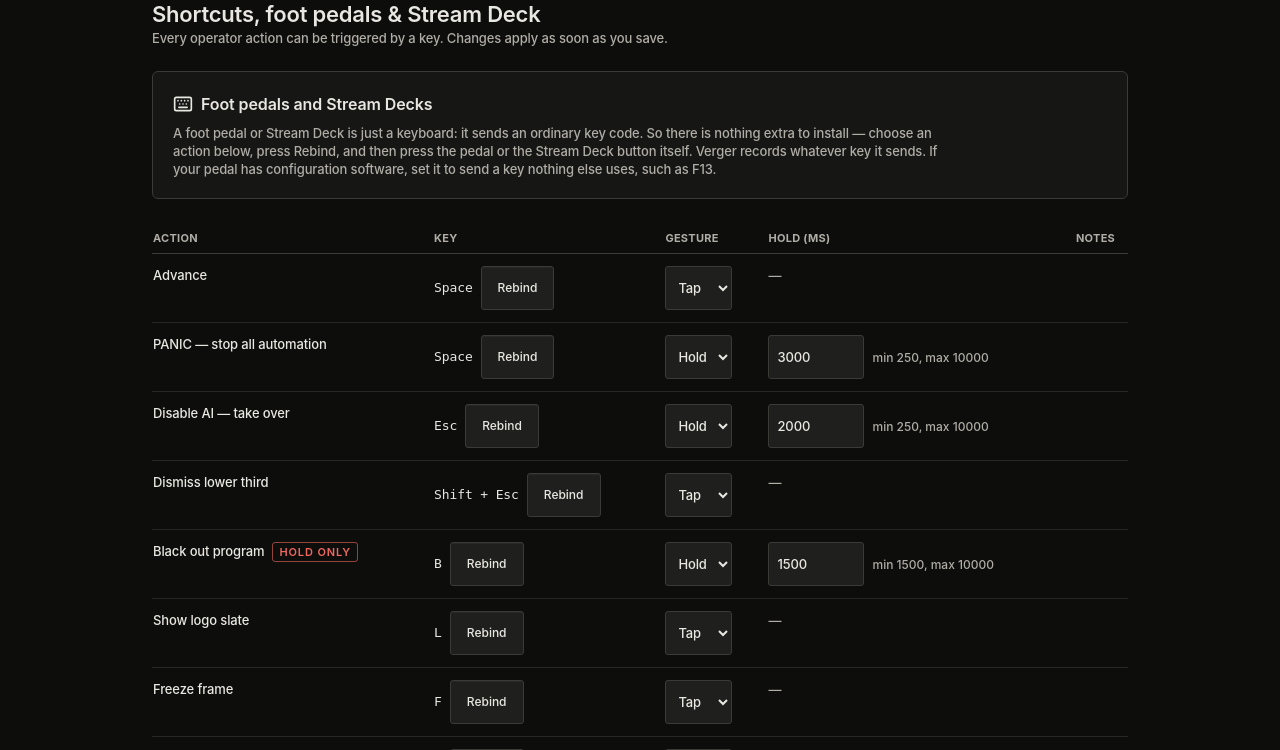
ShortcutSettings › restores the defaults, but only after a deliberate hold
Click the button with aria-label "rebind advance".
click(518, 288)  # box [481,266,554,310]
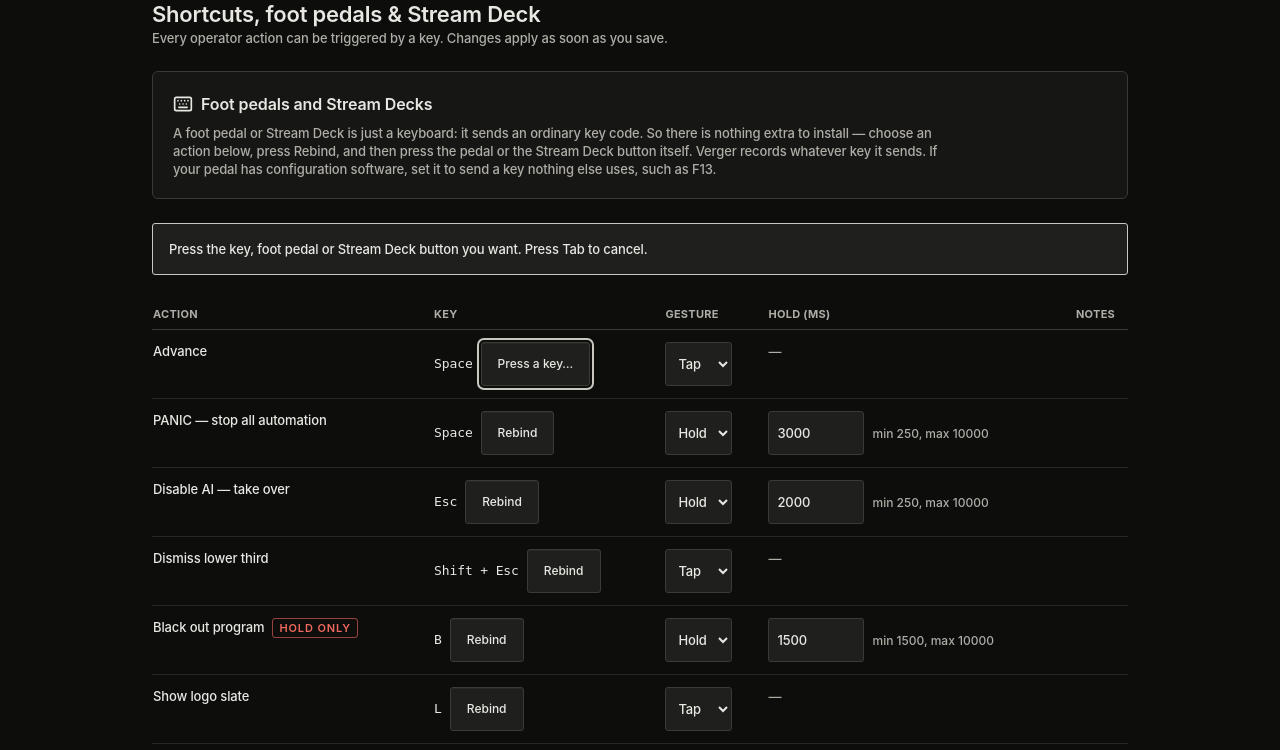
Press F13
(page scrolled)
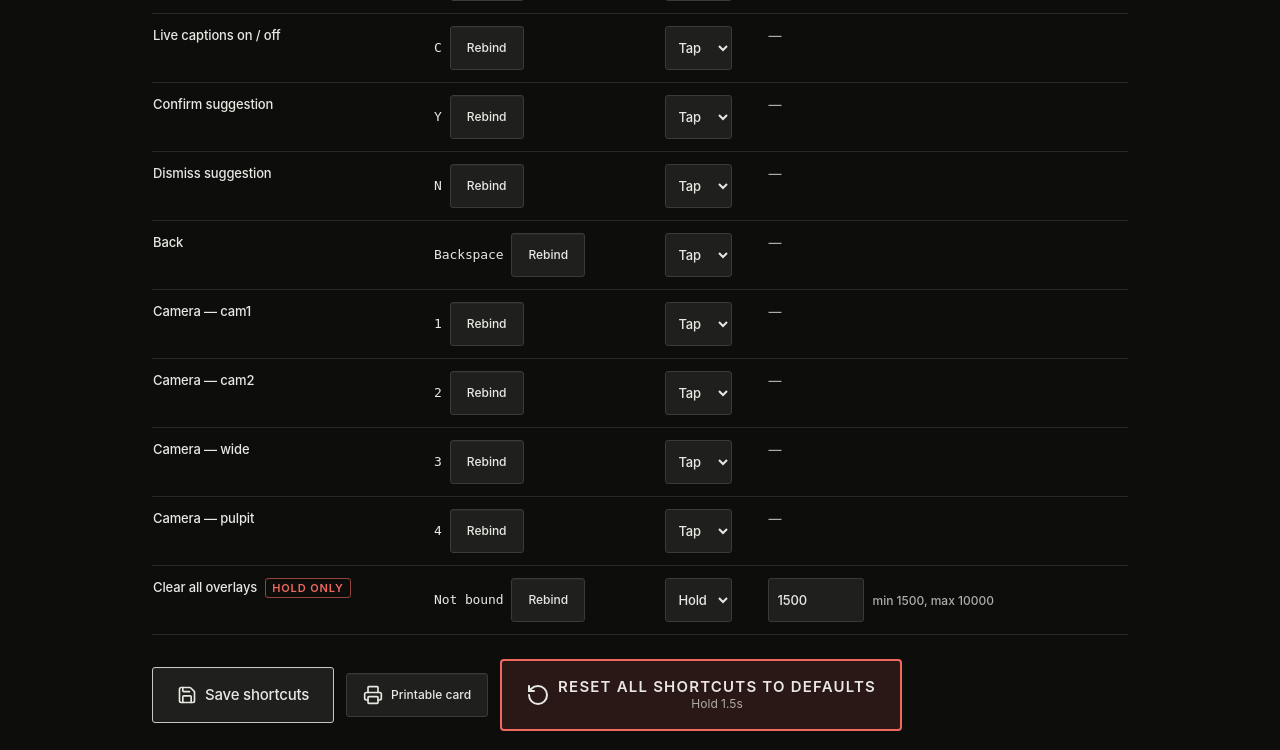
Press the mouse on the button "Reset all shortcuts to defaults Hold 1.5s" at (701, 695), box [500,659,902,731]
Press the mouse on the button "Reset all shortcuts to defaults Hold 1.5s" at (701, 695), box [500,659,902,731]
Wait 1600 ms
(page scrolled)
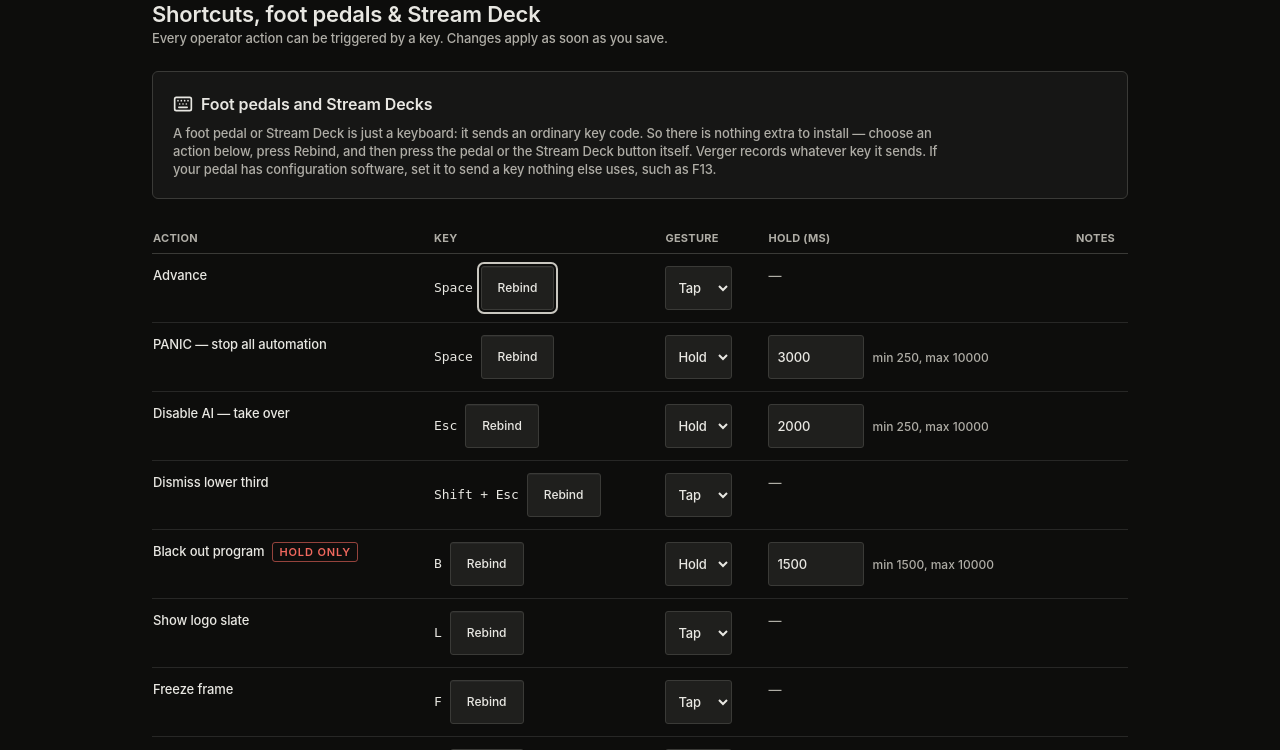
Result: the text "Space" in the row of "Advance" is shown at [434,280,473,295]
